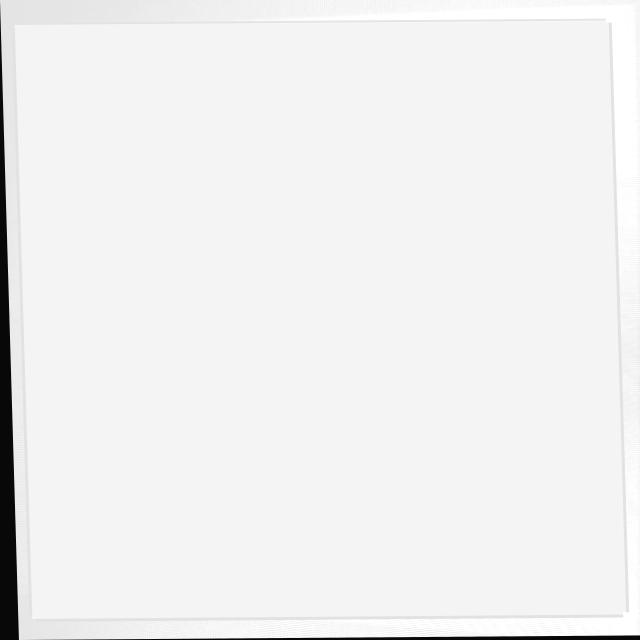qr_code: (15, 21, 622, 619)
